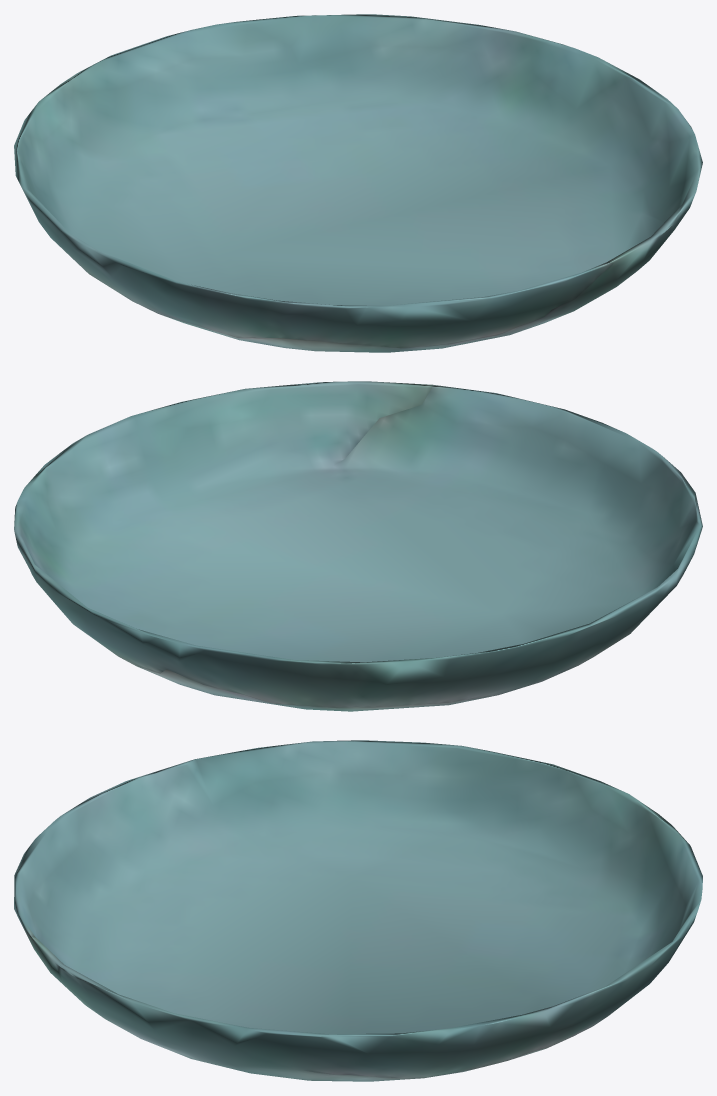
The model's file is Ecoforms_Plant_Container_S24Turquoise-medium.glb.
3 views of the same model, one above another, from view 1: azimuth 30°, elevation 25°; view 2: azimuth 150°, elevation 25°; view 3: azimuth 270°, elevation 25° (orthographic).
Visible parts, largest first — view 1: Ecoforms_Plant_Container_S24Turquoise; view 2: Ecoforms_Plant_Container_S24Turquoise; view 3: Ecoforms_Plant_Container_S24Turquoise.
Boxes of the visible parts, x1=… form: Ecoforms_Plant_Container_S24Turquoise: x1=14, y1=14, x2=702, y2=352; Ecoforms_Plant_Container_S24Turquoise: x1=14, y1=381, x2=702, y2=711; Ecoforms_Plant_Container_S24Turquoise: x1=14, y1=740, x2=702, y2=1081.
Size of the model in its own units: 0.2413 by 0.0327 by 0.2411.
Materials: 1 (1 with a texture image).
